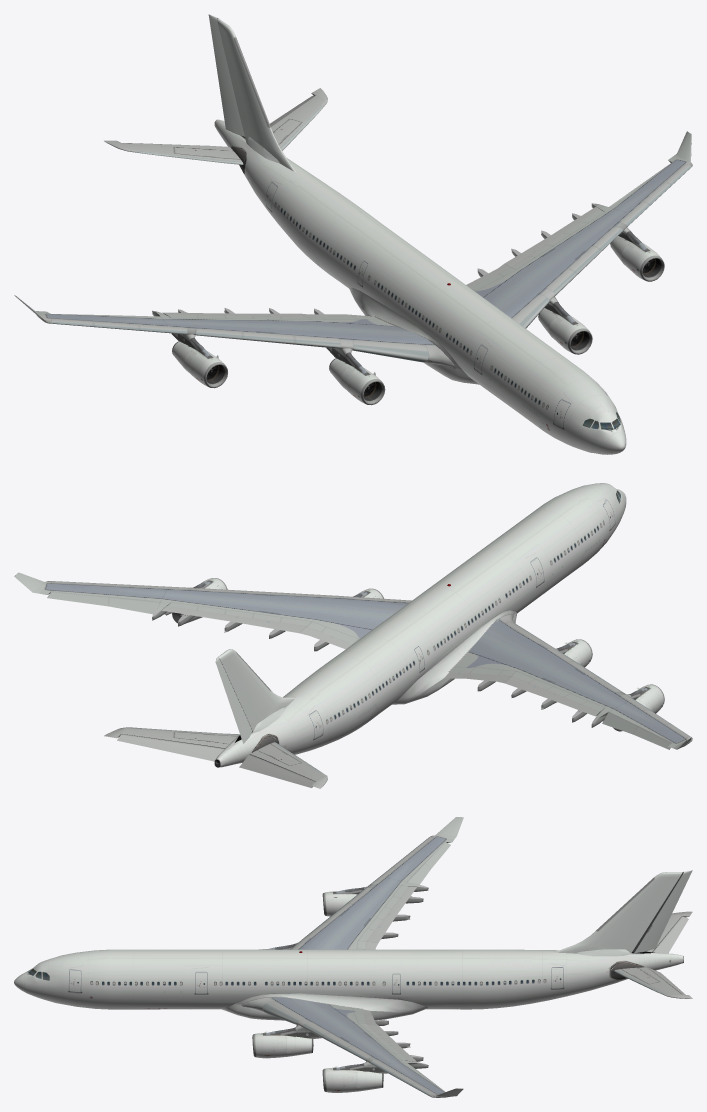
The model's file is Airbus_A340.glb.
3 renders of one model, top to bottom at view 1: azimuth 30°, elevation 25°; view 2: azimuth 150°, elevation 25°; view 3: azimuth 270°, elevation 25°, orthographic. The views are drawn at different scales.
Parts seen in each view (by area): view 1: node_2, node_5, node_4; view 2: node_2, node_5, node_4; view 3: node_2, node_4, node_5.
Boxes of the visible parts, x1,y1,x2,y2 form: node_2: (51,14,691,454); node_5: (470,131,692,318); node_4: (14,295,456,368); node_2: (47,483,690,788); node_5: (14,572,409,644); node_4: (449,614,692,749); node_2: (14,837,692,1095); node_4: (297,817,463,949); node_5: (241,997,463,1097).
Bounding box in the file's own units: 60.29 × 14.88 × 63.69.
2 materials, 2 textured.
